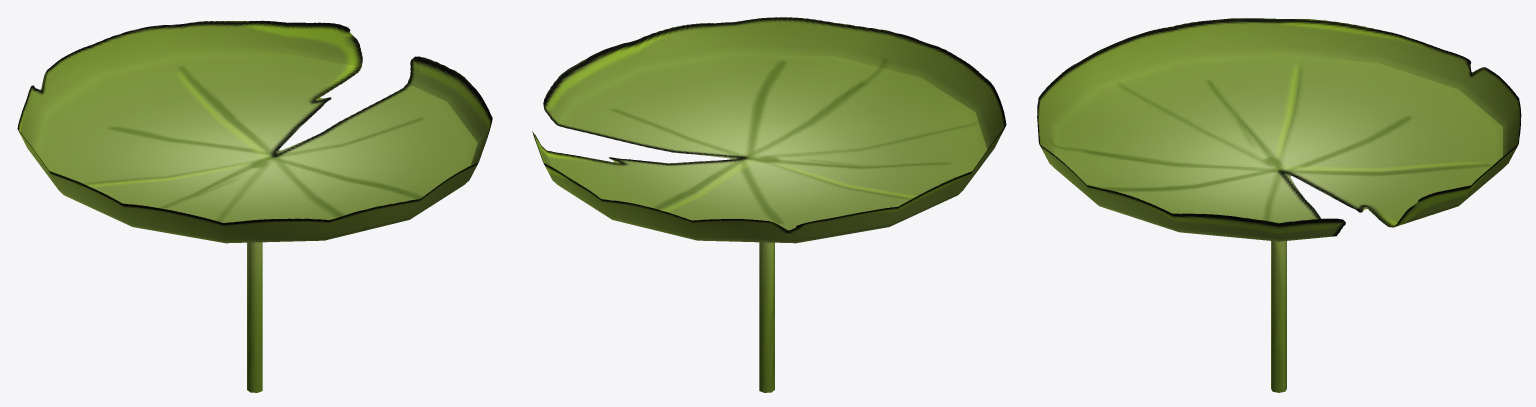
The model's file is Moonset_FBX_nenuphar_01.fbx.
The picture shows the model from 3 angles, left to right: view 1: azimuth 30°, elevation 25°; view 2: azimuth 150°, elevation 25°; view 3: azimuth 270°, elevation 25°; orthographic projection.
Parts seen in each view (by area): view 1: nenufar; view 2: nenufar; view 3: nenufar.
Part boxes in pixels (box(x1,y1,x2,y2)): nenufar: box(17, 20, 492, 392); nenufar: box(532, 17, 1006, 392); nenufar: box(1037, 18, 1521, 392).
Bounding box in the file's own units: 1.93 × 1.21 × 1.95.
